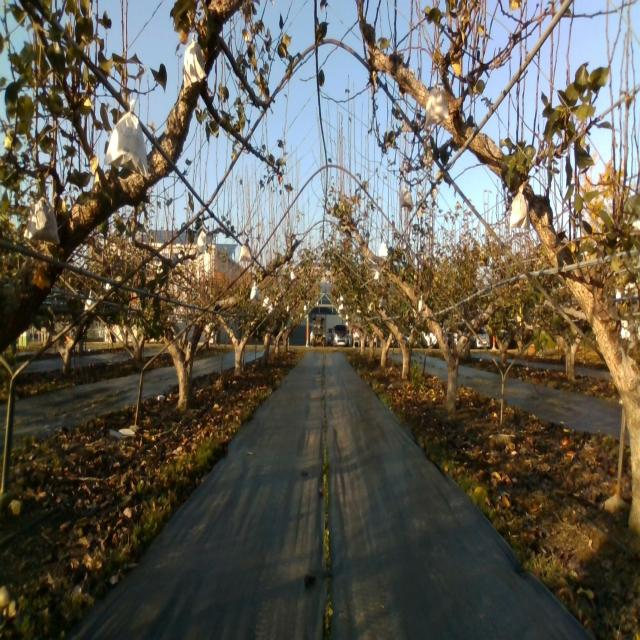pearbags: (105, 97, 148, 180), (23, 192, 61, 242), (183, 34, 206, 88), (510, 182, 532, 230), (425, 82, 449, 126), (238, 238, 252, 263), (400, 187, 413, 209)
